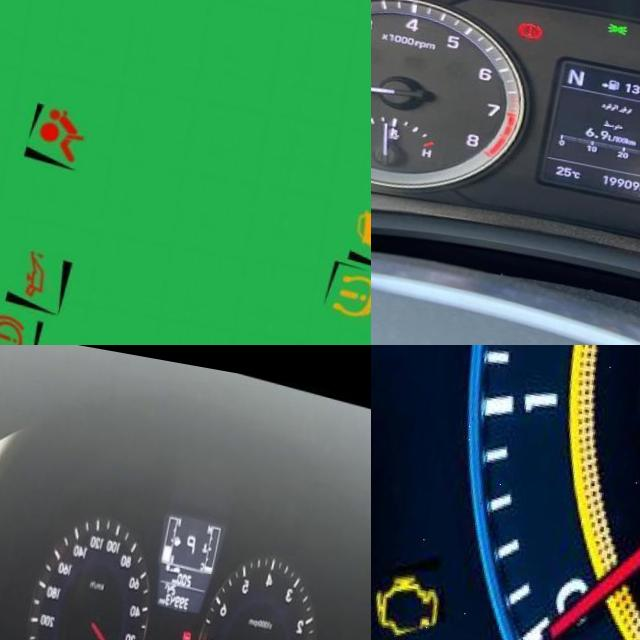Electronic Power Steering: (191, 619, 201, 632)
